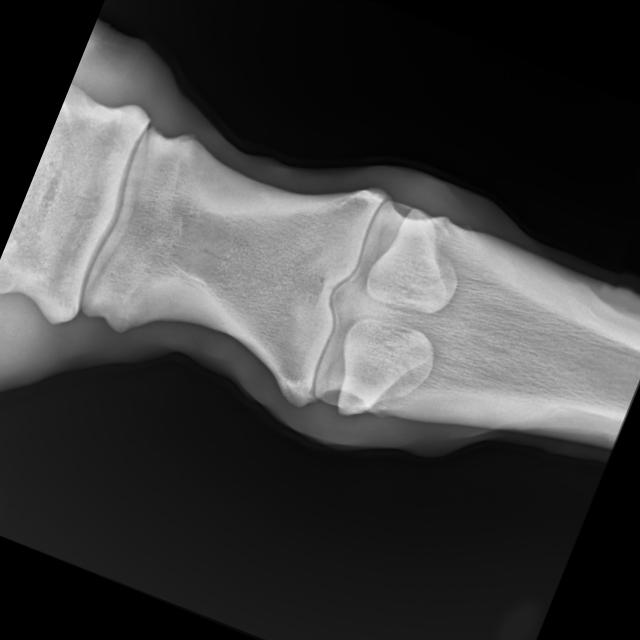joint-ht8A: (187, 96, 558, 519)
